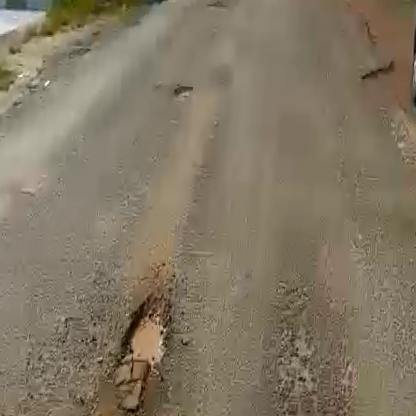pothole: (106, 289, 179, 416)
